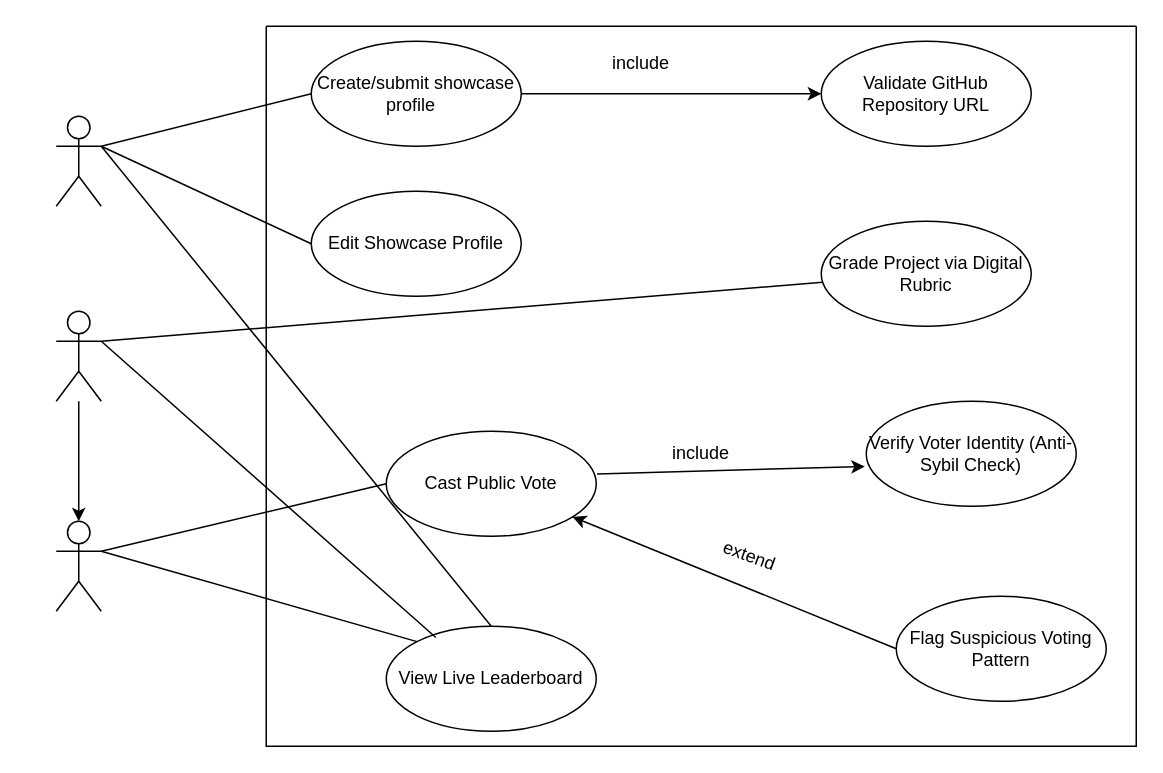
This 1163x773 diagram has some shape labels left out. The shapes that lost their labels are listed below. From the top down, each one's box as (x1, y1, x2, y2) in pixels, then its label:
(55, 115, 101, 206): Student team
(55, 310, 101, 401): Panel judge
(55, 520, 101, 611): Public voter
